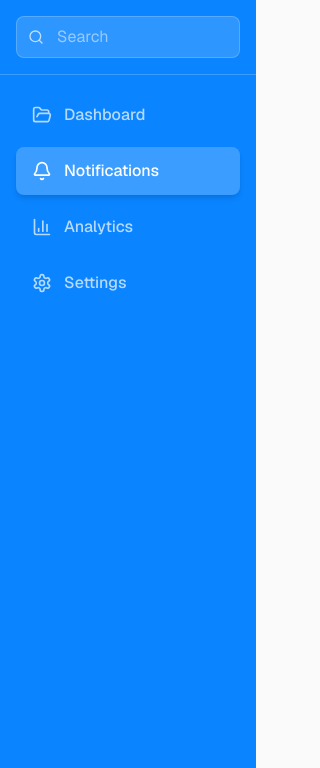
Scenario: Sidebar › filters menu items based on search query
Type "Dash" into the field with placeholder "Search".
click(128, 37); type("Dash")  # box [16,16,240,58]
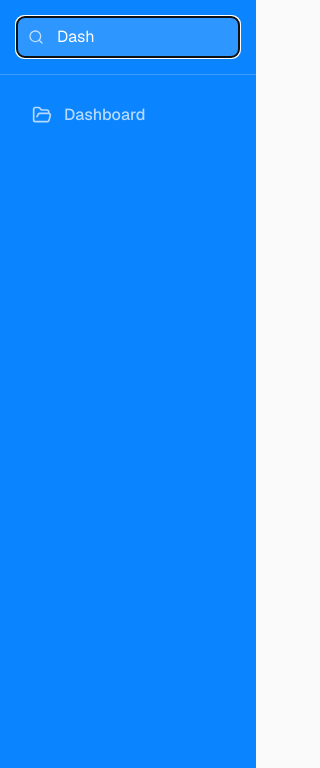
Expected: the text "Dashboard" is shown, [64,103,145,127]
Expected: the button "Notifications" is gone
